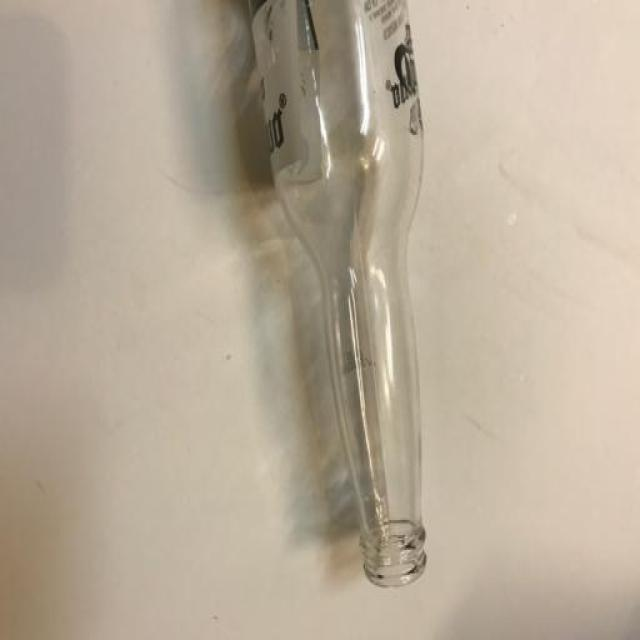glass: (242, 0, 428, 590)
